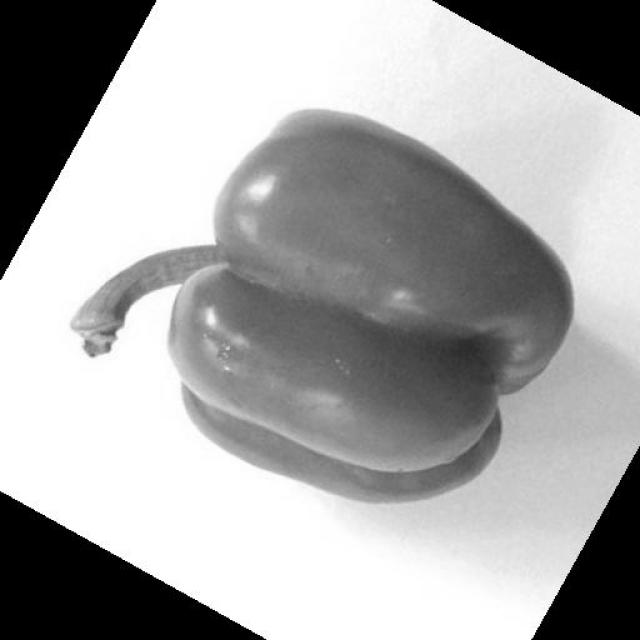Fresh_Capsicum: (152, 131, 622, 504)
